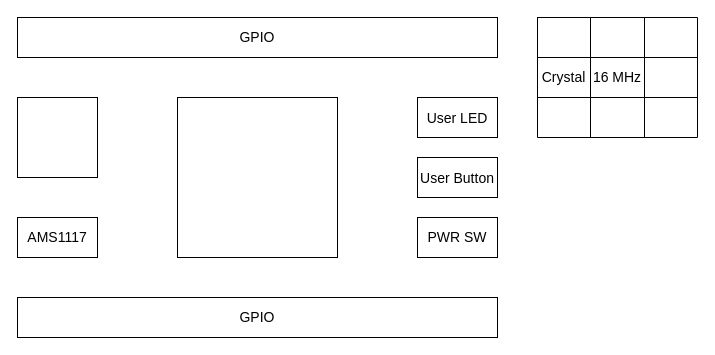
This 715x355 diagram has some shape labels left out. The centre of each missing label's shape, as x and y in pixels:
"ATMEGA128" goes at pixel 257 177.
"ATTINY 2313" goes at pixel 57 137.
